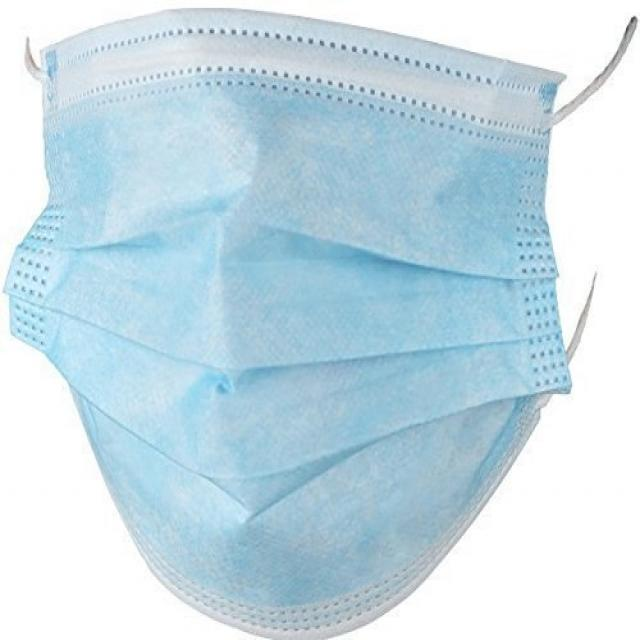non-organic waste: (13, 28, 605, 628)
